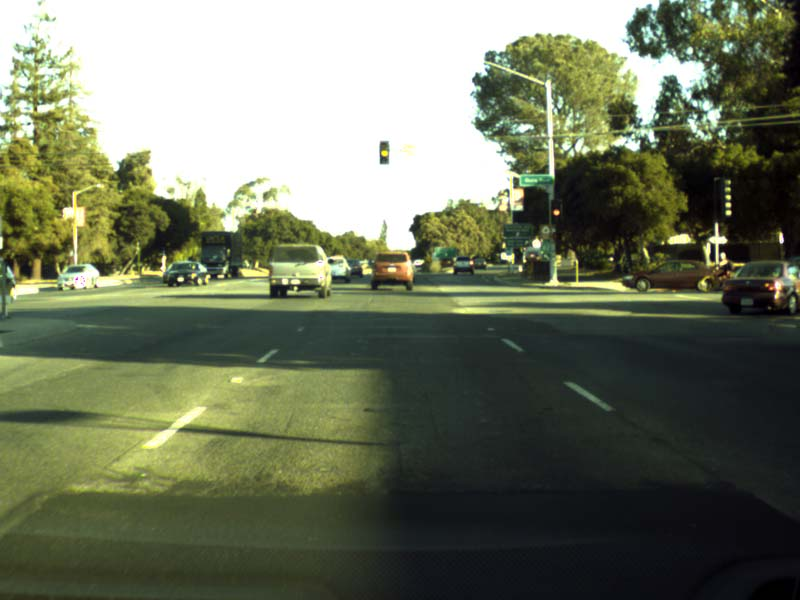Yellow: (550, 199, 562, 223), (379, 140, 388, 162)
